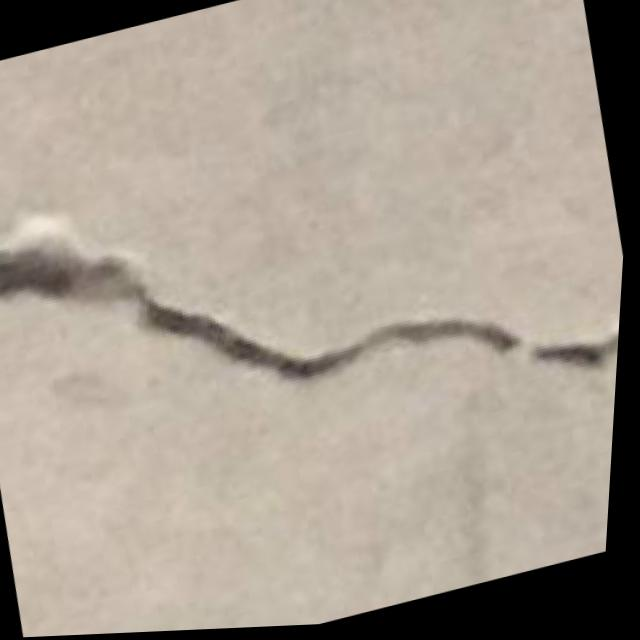Crack: (0, 72, 636, 541)
